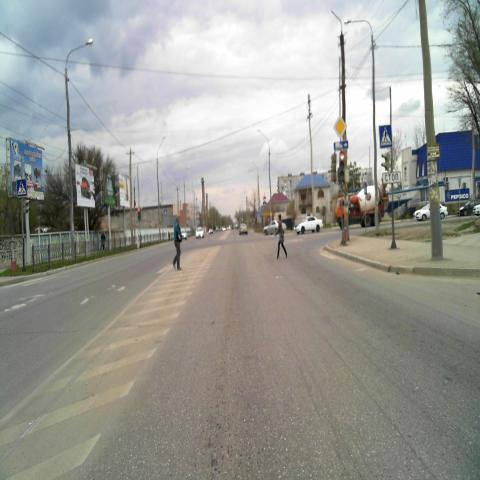6_15_2: (333, 141, 348, 150)
